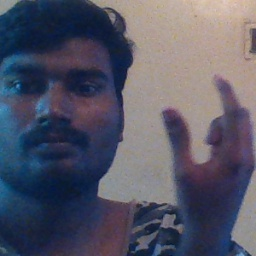U: (154, 64, 256, 199)
